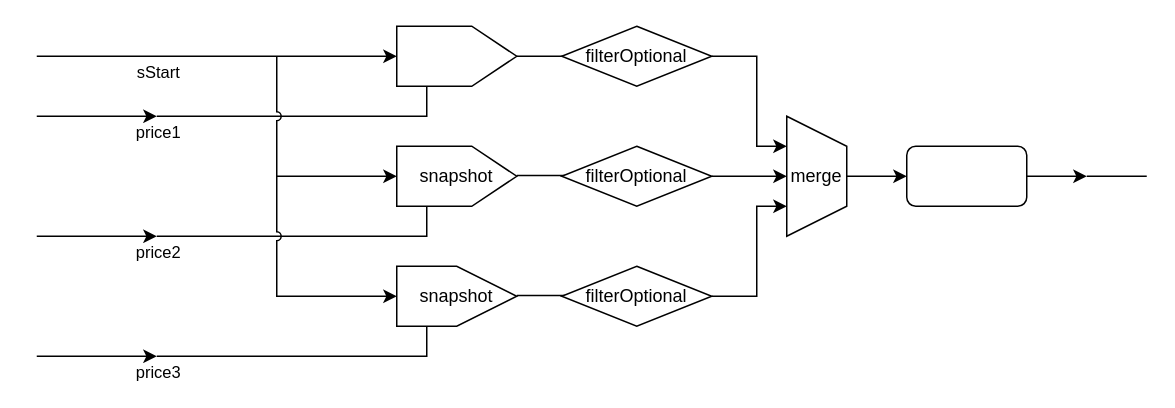
This 1175x408 diagram has some shape labels left out. Each missing label, with the centre of its shape:
"hold 0.0" belongs at (966,175).
"spanshot" belongs at (456,55).
